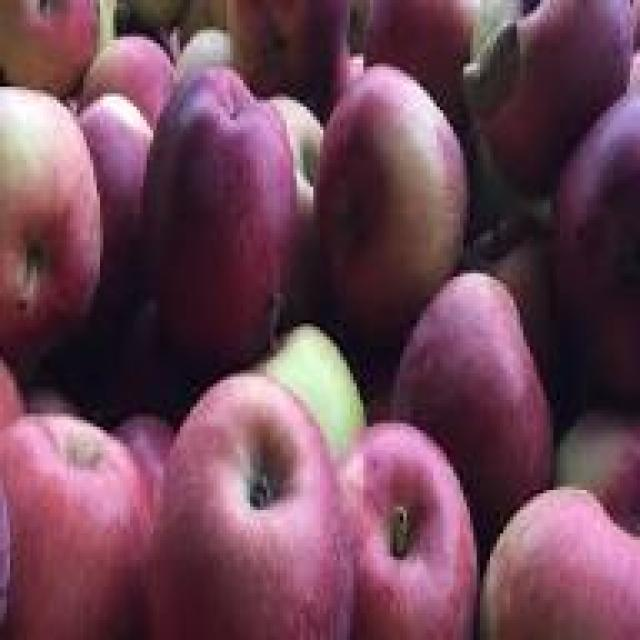apple: (173, 383, 350, 637), (150, 74, 293, 334), (394, 273, 554, 500), (320, 56, 470, 286), (3, 413, 160, 627), (470, 3, 637, 194), (343, 420, 487, 633), (3, 83, 100, 360), (487, 456, 633, 636), (550, 97, 640, 313), (73, 83, 170, 267)
